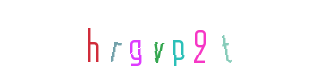2: (130, 0, 210, 80)
G: (118, 0, 198, 80)
H: (51, 0, 131, 80)
P: (130, 0, 210, 80)
R: (104, 0, 184, 80)
T: (137, 0, 217, 80)
V: (122, 0, 202, 80)
